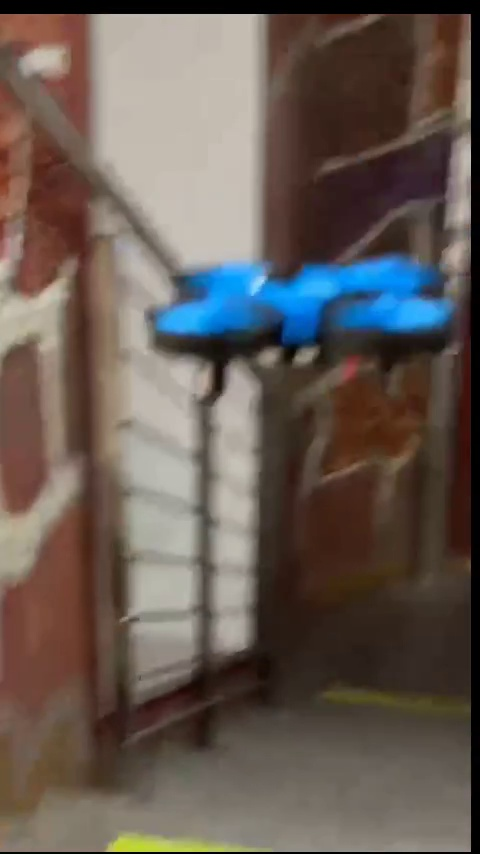drone: (162, 258, 449, 391)
